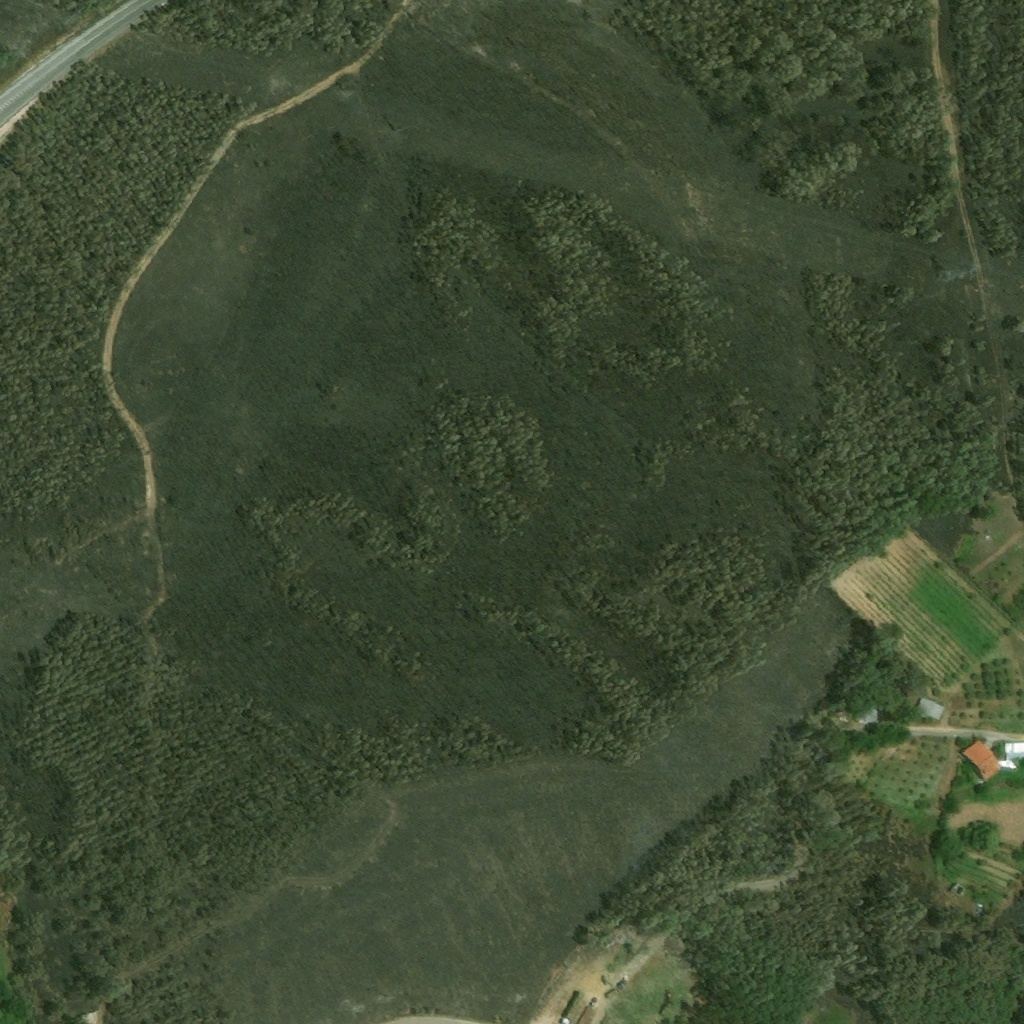0 no-damage: (958, 737, 1002, 784), (914, 694, 946, 723), (845, 700, 879, 725), (1004, 742, 1023, 760)
4 un-classified: (78, 1010, 99, 1023)
